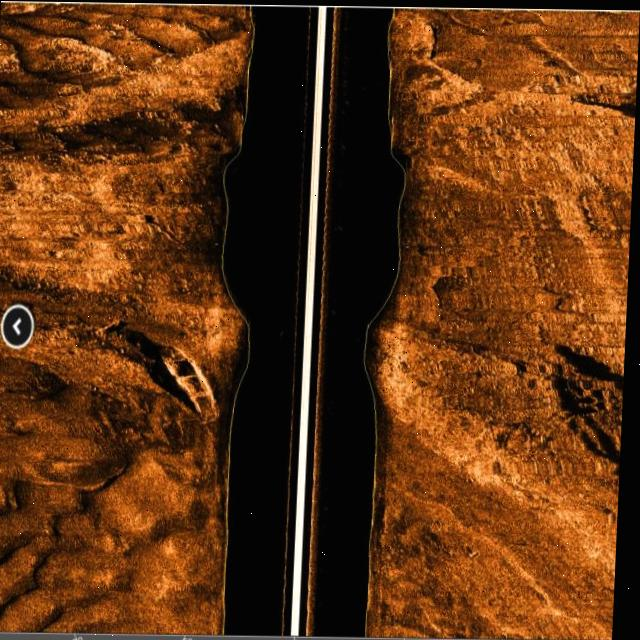shipwreck: (160, 339, 226, 434)
